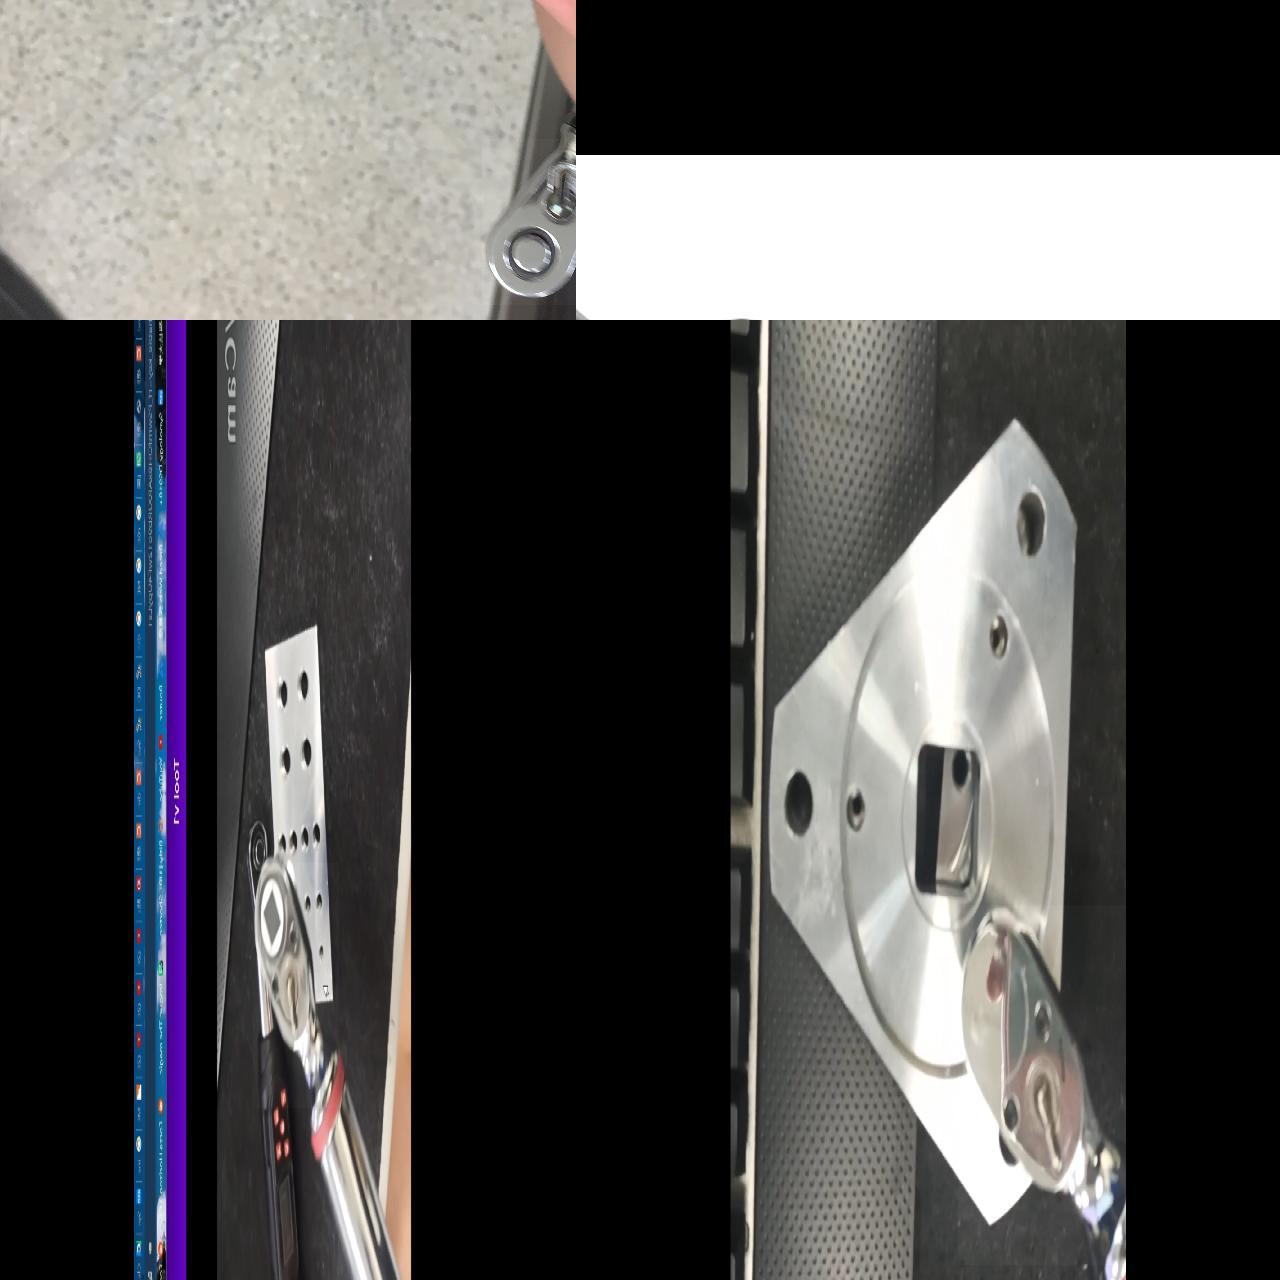Tool: (958, 906, 1126, 1266), (252, 863, 339, 1109), (481, 139, 576, 305), (576, 155, 627, 320)
